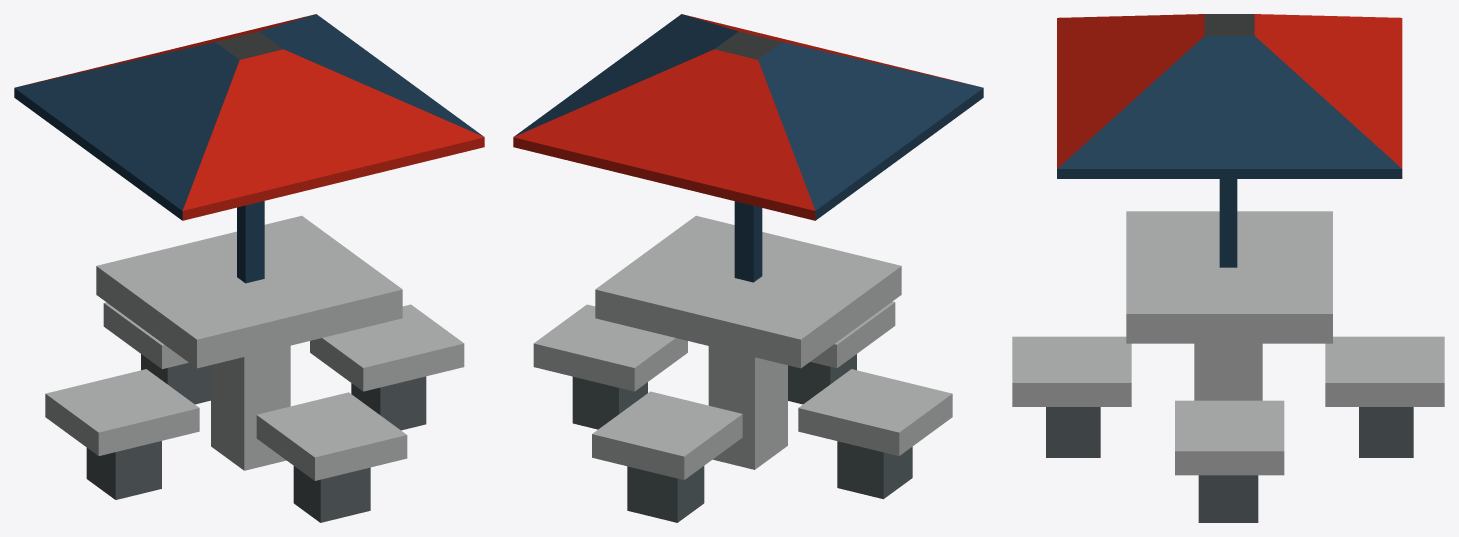
The model's file is table1.FBX.
3 views of the same model, side by side, from view 1: azimuth 30°, elevation 25°; view 2: azimuth 150°, elevation 25°; view 3: azimuth 270°, elevation 25° (orthographic). The views are drawn at different scales.
Parts seen in each view (by area): view 1: table1; view 2: table1; view 3: table1.
Part boxes in pixels (left/top/right/bottom): table1: left=14, top=14, right=484, bottom=522; table1: left=513, top=14, right=983, bottom=522; table1: left=1012, top=14, right=1444, bottom=522.
Size of the model in its own units: 4.84 by 5.15 by 4.84.
